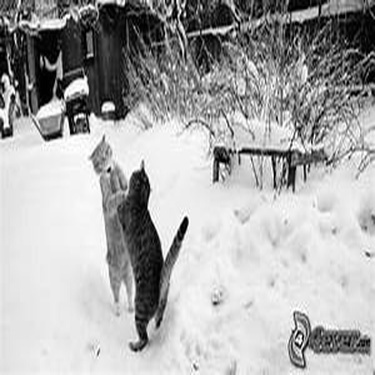cat: (117, 158, 188, 352), (82, 135, 139, 317)
